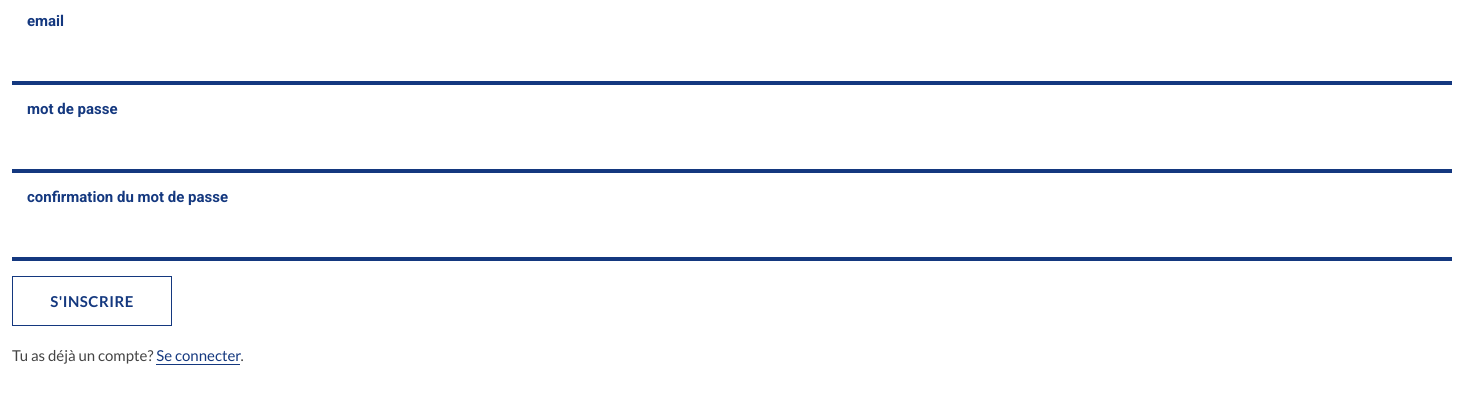
Register Form › with invalid confirm password
// user inputs password
Type "imavalidpassword" into the password field labelled "mot de passe".
click(732, 148); type("imavalidpassword")  # box x1=12 y1=123 x2=1452 y2=173
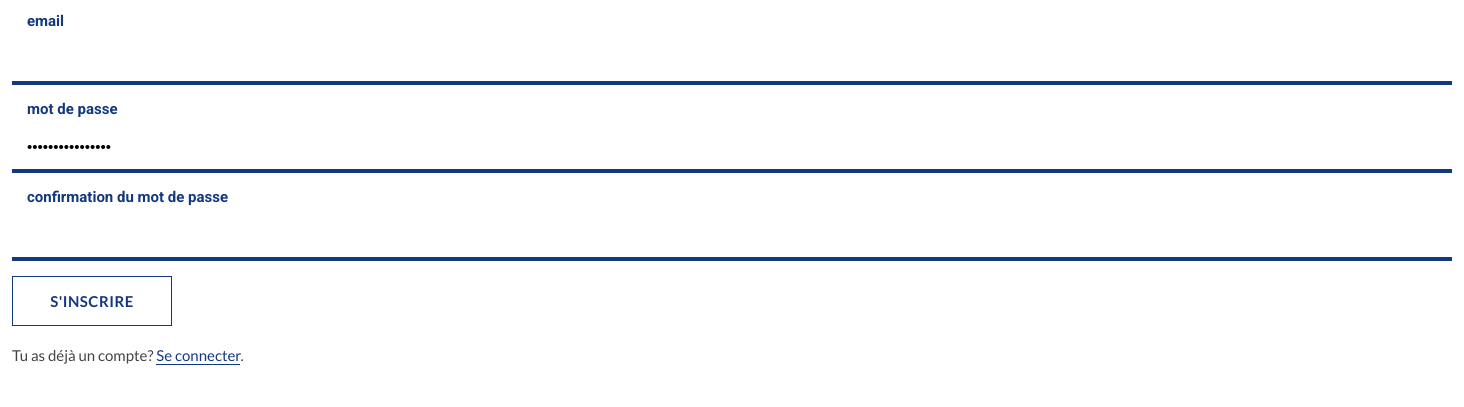
// user inputs bad confirmation
Type "notsamepassword" into the password field labelled "confirmation du mot de passe".
click(732, 236); type("notsamepassword")  # box x1=12 y1=211 x2=1452 y2=261
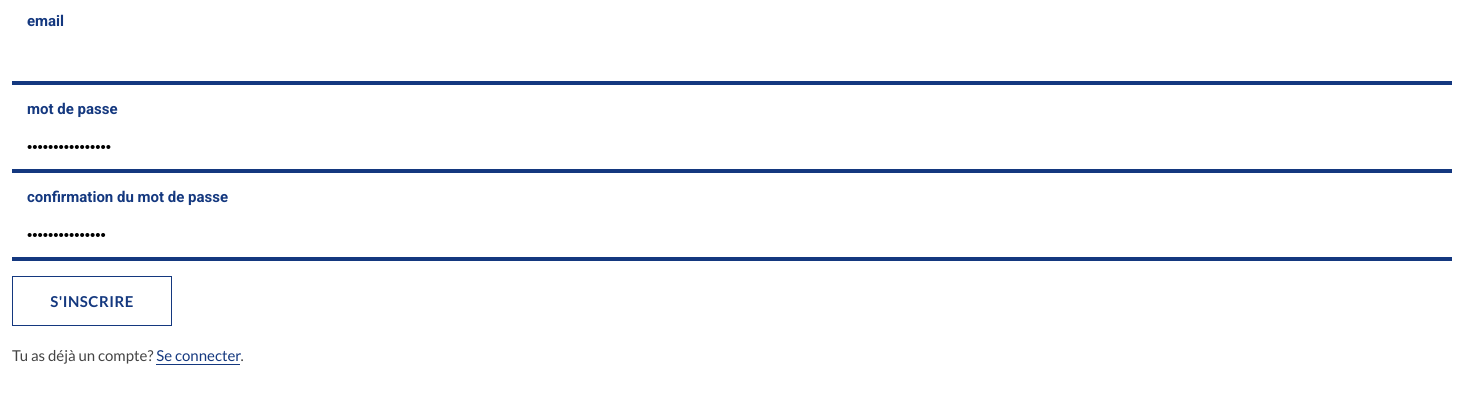
Leave the password field labelled "confirmation du mot de passe", box x1=12 y1=211 x2=1452 y2=261
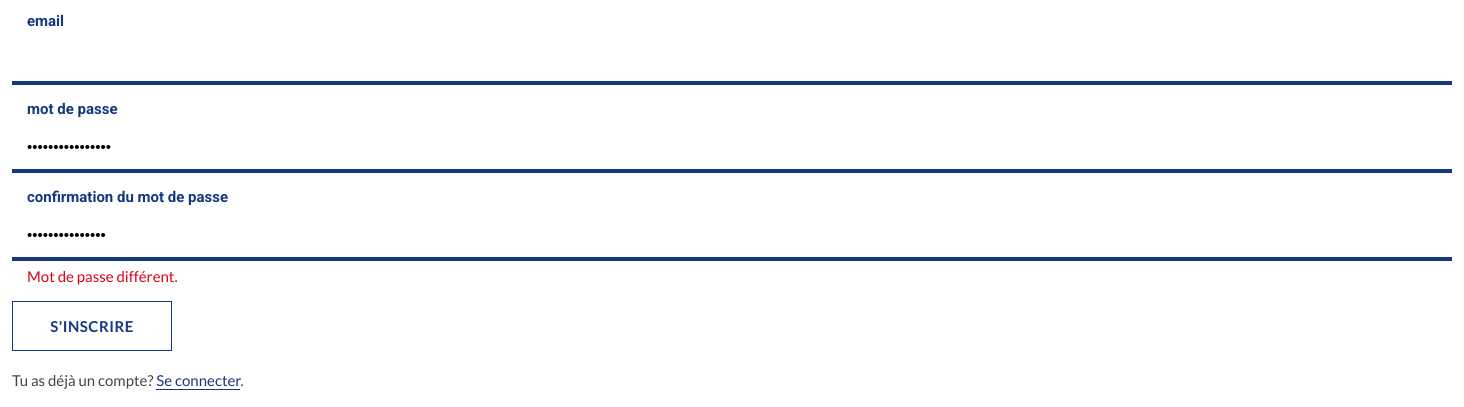
Result: the text "Mot de passe différent." is shown at x1=27 y1=267 x2=178 y2=285
